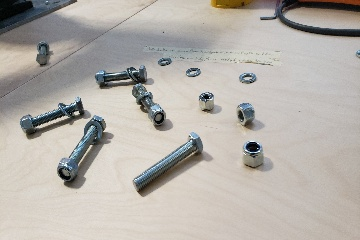Bolt: (129, 130, 207, 192)
FalseAssembly: (54, 114, 110, 185), (17, 95, 88, 136), (36, 37, 49, 69)
FinishedAssembly: (129, 84, 173, 130), (95, 64, 150, 85)
Nut: (232, 101, 260, 128), (243, 140, 264, 167), (198, 90, 215, 112)
Washer: (238, 73, 258, 83), (156, 58, 173, 67), (184, 67, 201, 76)
